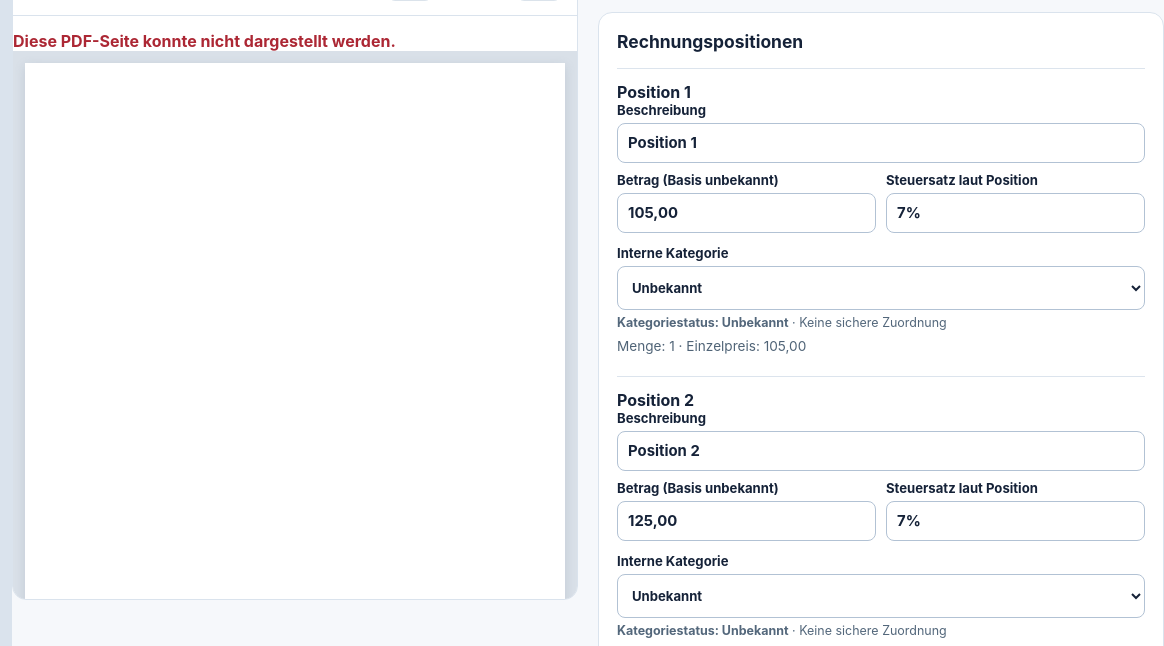
Test: position sum in the browser invoice review › keeps unknown optional categories visible without warnings
(page scrolled)
Select "Übernachtung" in the dropdown named "Position 1 Kategorie" at (881,288), box 617,266 -> 1145,310
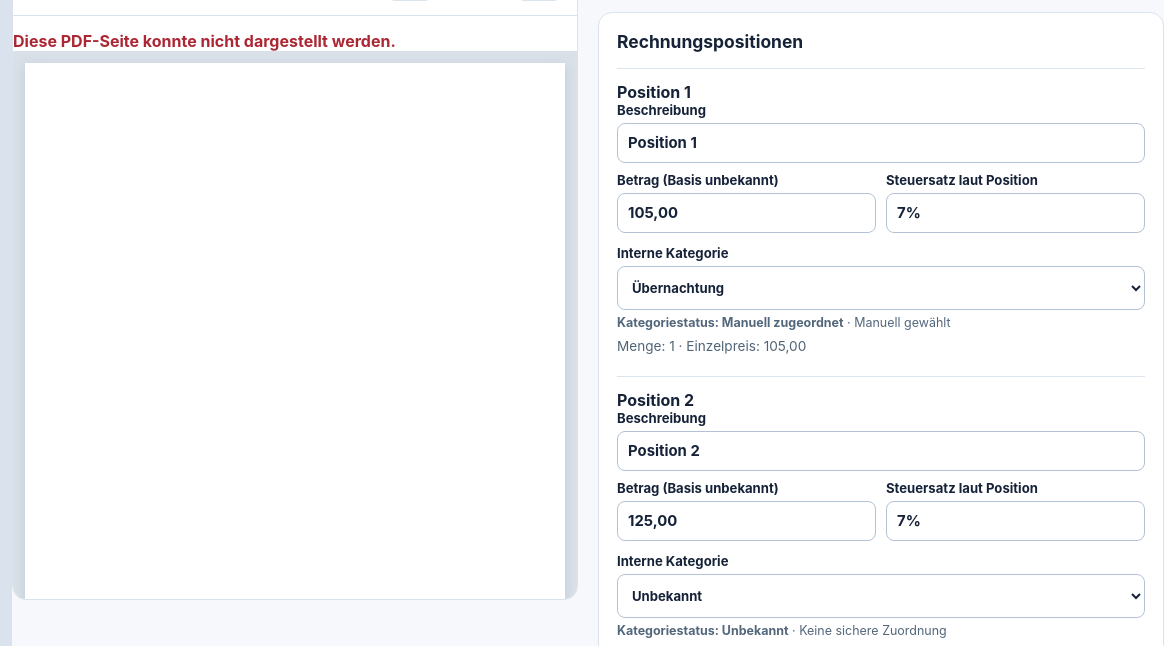
Result: the text "Position 1" shows "Kategoriestatus: Manuell zugeordnet" at 617,68 -> 1145,363
Select "Unbekannt" in the dropdown named "Position 1 Kategorie" at (881,288), box 617,266 -> 1145,310
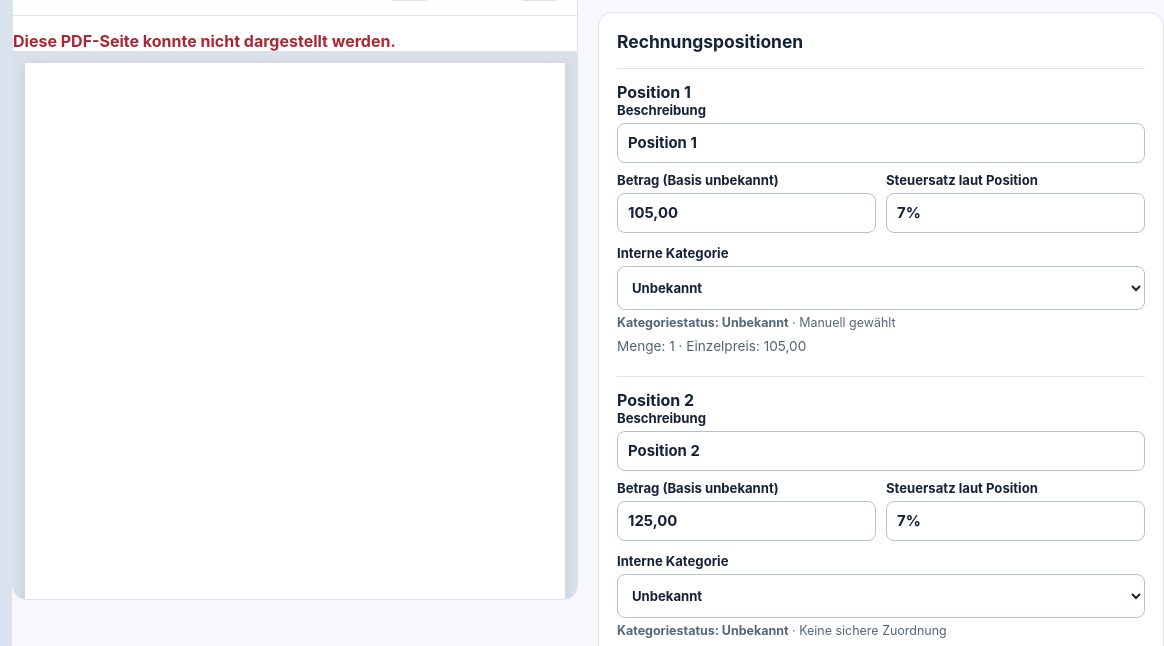
Result: the text "Position 1" shows "Kategoriestatus: Unbekannt" at 617,68 -> 1145,363
